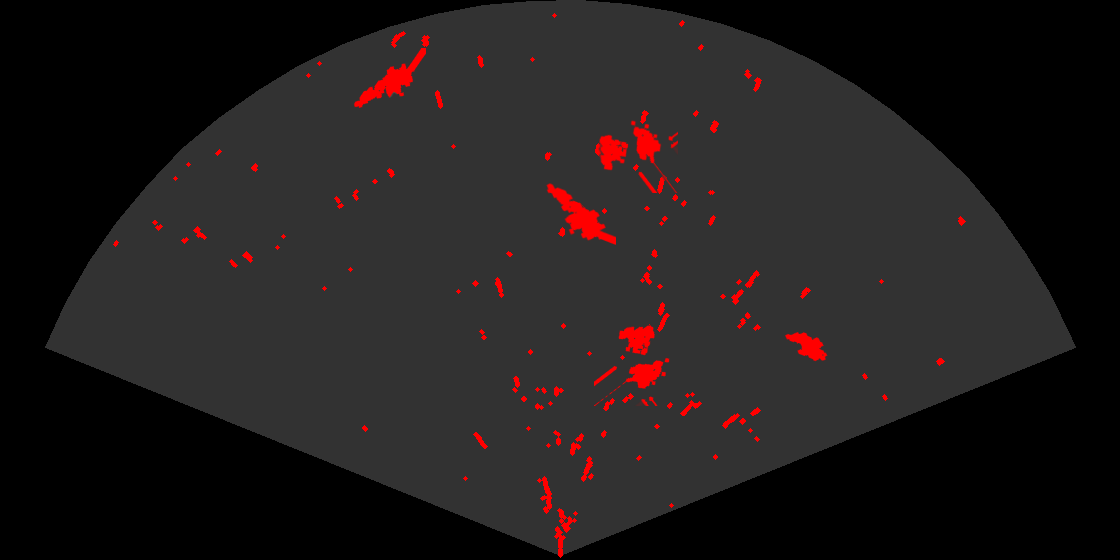AUV: (784, 331, 829, 363)
cage: (594, 324, 671, 406), (597, 119, 678, 193)
frogman: (352, 48, 426, 110), (545, 182, 616, 246)
